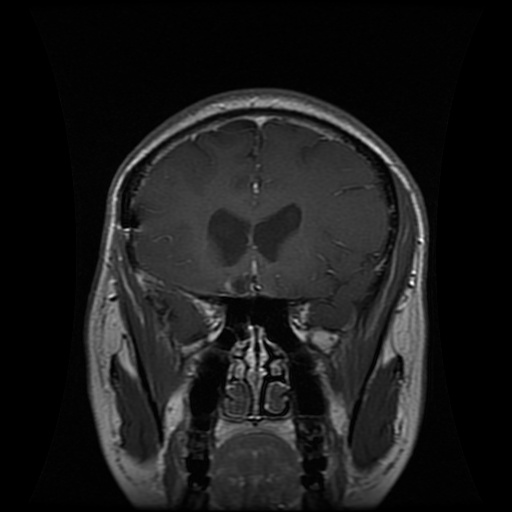glioma: (222, 269, 261, 299)
